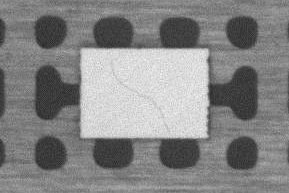DIE_CRACK: (110, 60, 172, 135)
